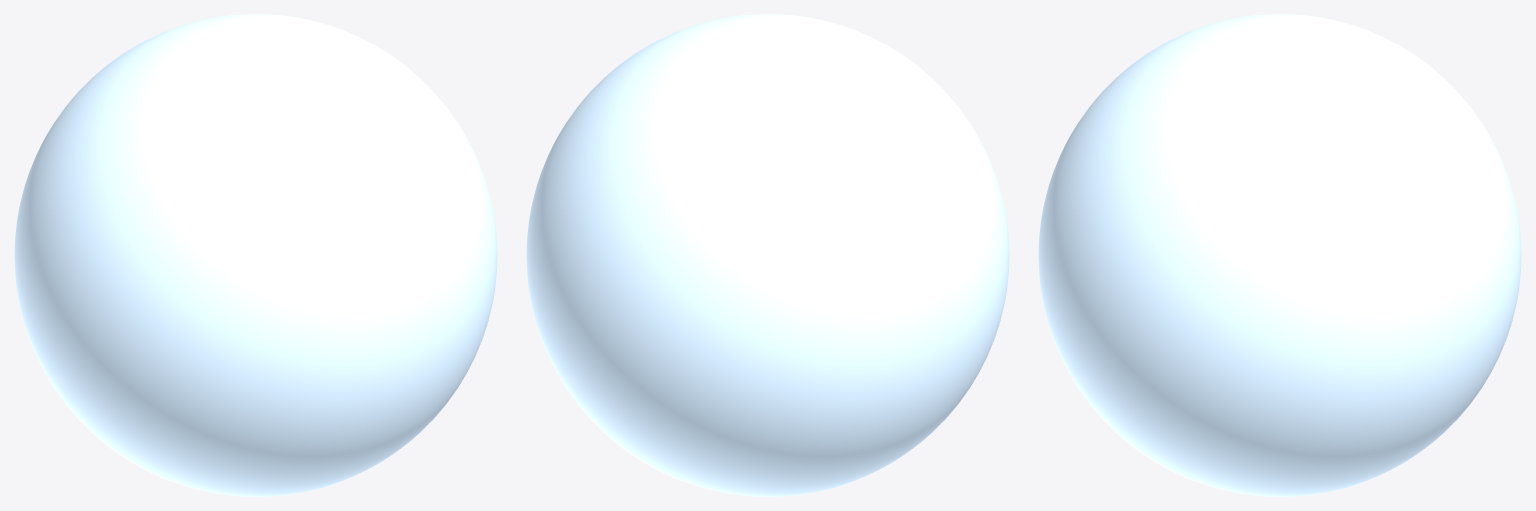
File: nicer-j0437-sphere.glb
3 views of the same model, side by side, from view 1: azimuth 30°, elevation 25°; view 2: azimuth 150°, elevation 25°; view 3: azimuth 270°, elevation 25° (orthographic).
Parts seen in each view (by area): view 1: PSR J0437-4715 Neutron Star; view 2: PSR J0437-4715 Neutron Star; view 3: PSR J0437-4715 Neutron Star.
Boxes of the visible parts, box(x1,y1,x2,y2) form: PSR J0437-4715 Neutron Star: box(14, 14, 497, 496); PSR J0437-4715 Neutron Star: box(526, 14, 1009, 496); PSR J0437-4715 Neutron Star: box(1038, 14, 1521, 496).
Bounding box in the file's own units: 22.72 × 22.72 × 22.72.
